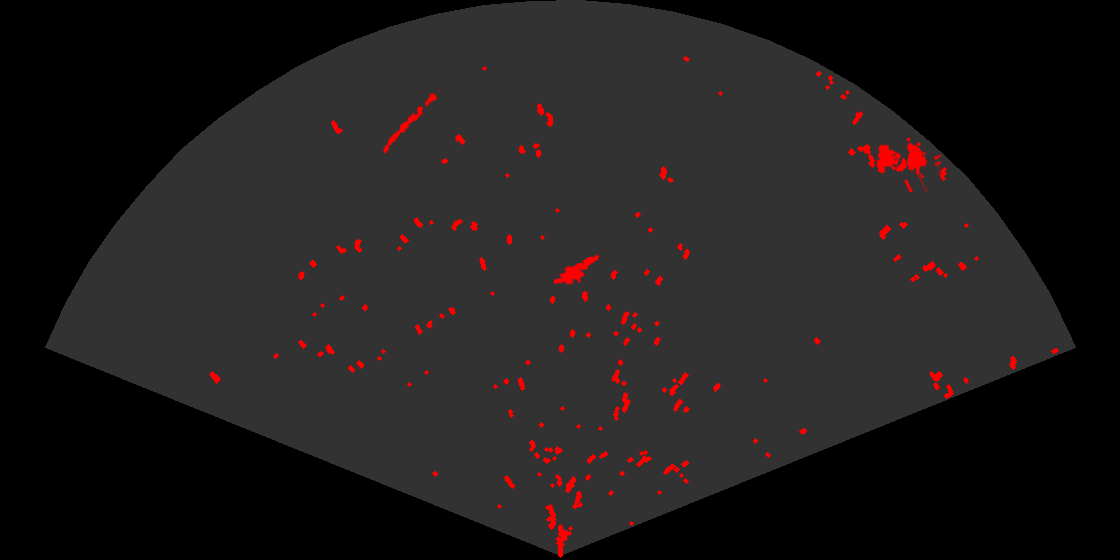cage: (875, 136, 941, 192)
chain: (381, 85, 442, 155)
frogman: (554, 253, 603, 287)
